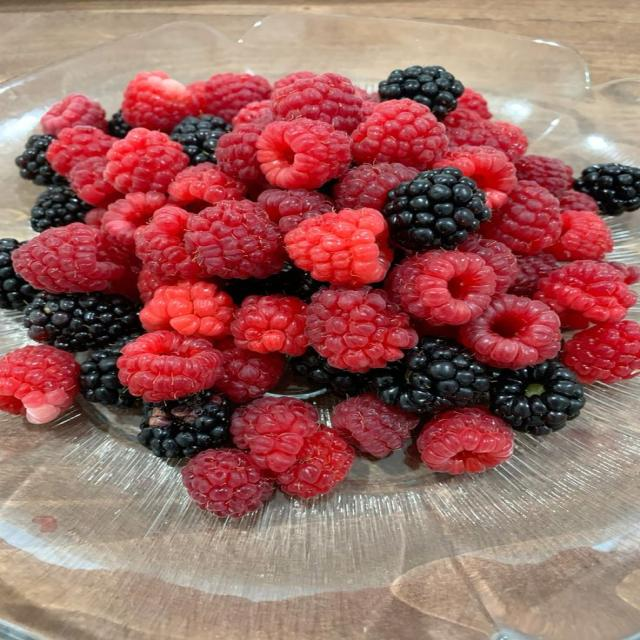raspberry: (369, 336, 491, 413), (307, 287, 417, 372), (383, 167, 491, 250), (286, 209, 392, 287), (13, 223, 126, 292), (185, 201, 286, 278), (392, 250, 496, 324), (459, 294, 561, 369), (118, 331, 222, 401), (24, 292, 141, 352), (491, 361, 585, 435), (352, 99, 448, 170), (256, 119, 351, 188), (232, 398, 319, 472), (417, 408, 513, 474), (181, 449, 273, 517), (138, 391, 232, 457), (0, 346, 79, 424), (536, 261, 636, 322), (480, 181, 561, 255), (332, 394, 419, 457), (135, 205, 206, 282), (105, 128, 188, 193), (140, 282, 234, 339), (272, 73, 361, 133), (277, 429, 354, 498), (434, 146, 517, 208), (563, 321, 639, 383), (379, 65, 464, 120), (231, 295, 307, 356), (122, 72, 199, 132), (215, 338, 286, 403), (231, 397, 318, 449), (447, 111, 527, 162), (225, 264, 326, 304), (334, 163, 417, 211), (80, 344, 139, 408), (291, 348, 367, 397), (194, 73, 271, 121), (101, 192, 166, 247), (168, 163, 246, 208), (459, 235, 518, 294), (46, 126, 117, 175), (574, 164, 639, 215), (547, 211, 613, 260), (258, 190, 333, 233), (216, 123, 266, 185), (171, 115, 231, 164), (30, 185, 90, 232), (40, 94, 106, 135), (0, 238, 37, 310), (15, 135, 66, 185), (516, 155, 573, 198), (68, 156, 115, 206), (508, 253, 558, 297), (533, 295, 590, 330), (138, 266, 179, 303), (232, 100, 274, 127), (456, 88, 492, 119), (443, 107, 484, 131), (560, 190, 599, 212), (274, 71, 317, 90), (607, 261, 639, 285), (107, 110, 132, 138), (187, 81, 208, 113), (84, 208, 106, 229), (354, 86, 379, 103), (361, 100, 379, 121)
